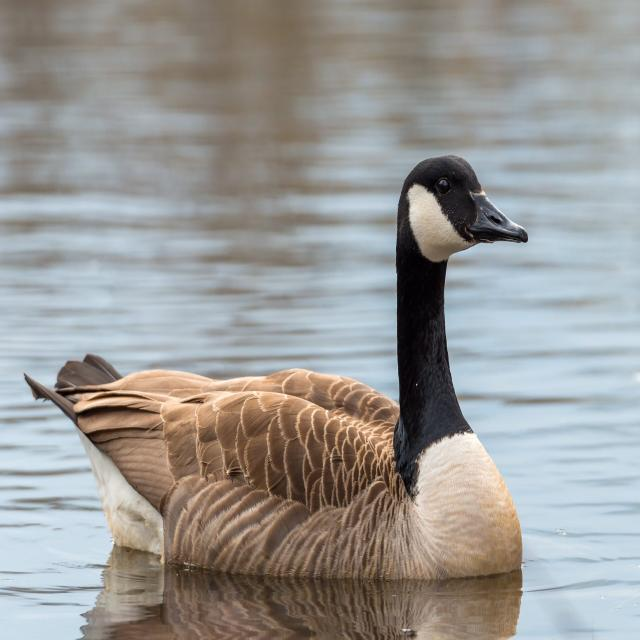Goose: (23, 149, 531, 582)
